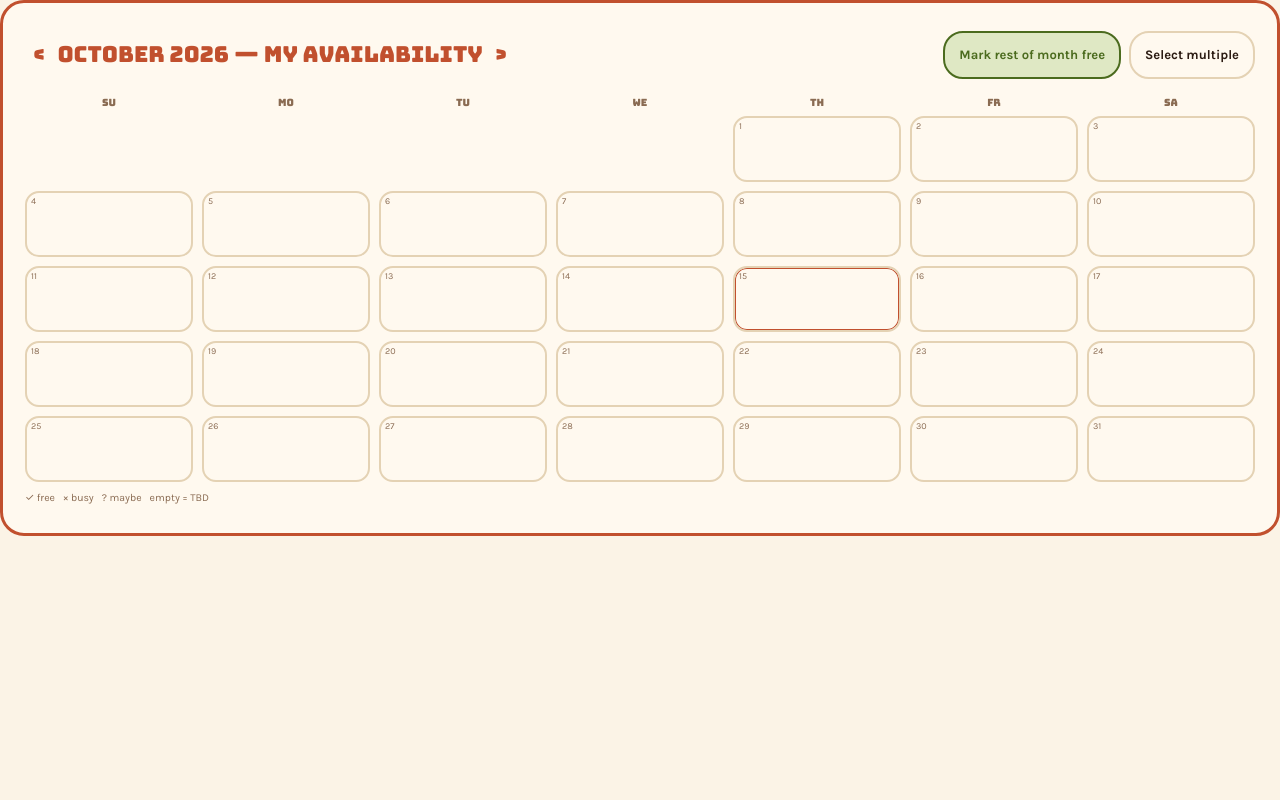
Test: bulk marking › lets a tap deselect
Click the button "Select multiple" at (1192, 55), box [1129,31,1255,78]
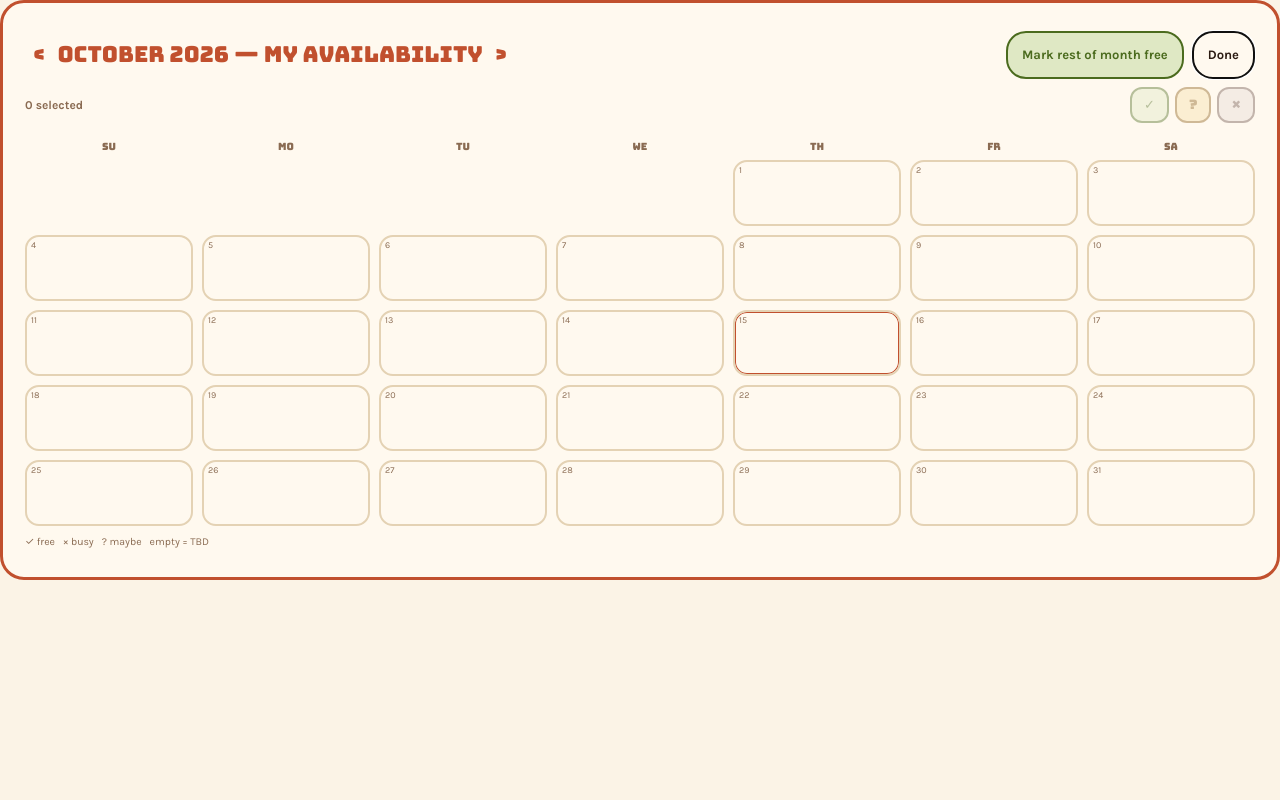
Click the button "16" at (994, 342), box [910,310,1078,376]
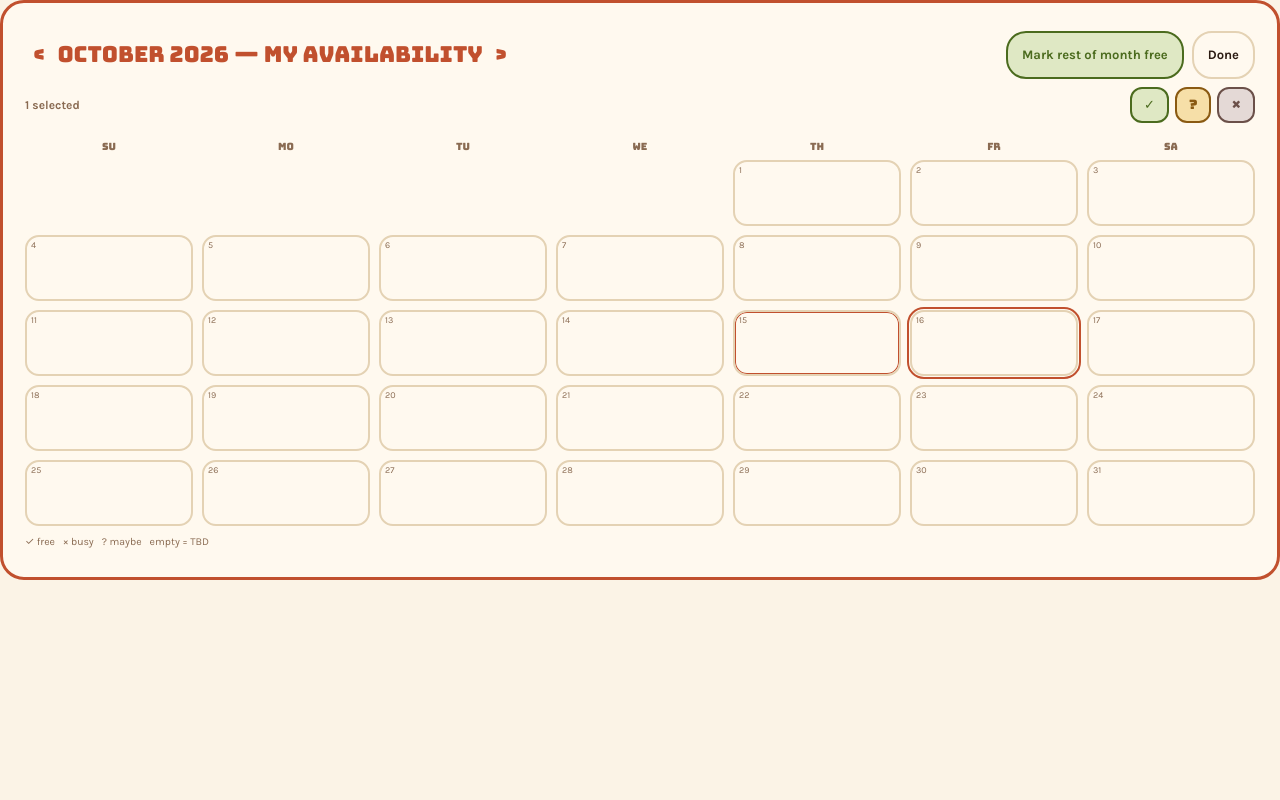
Click the button "16" at (994, 342), box [910,310,1078,376]
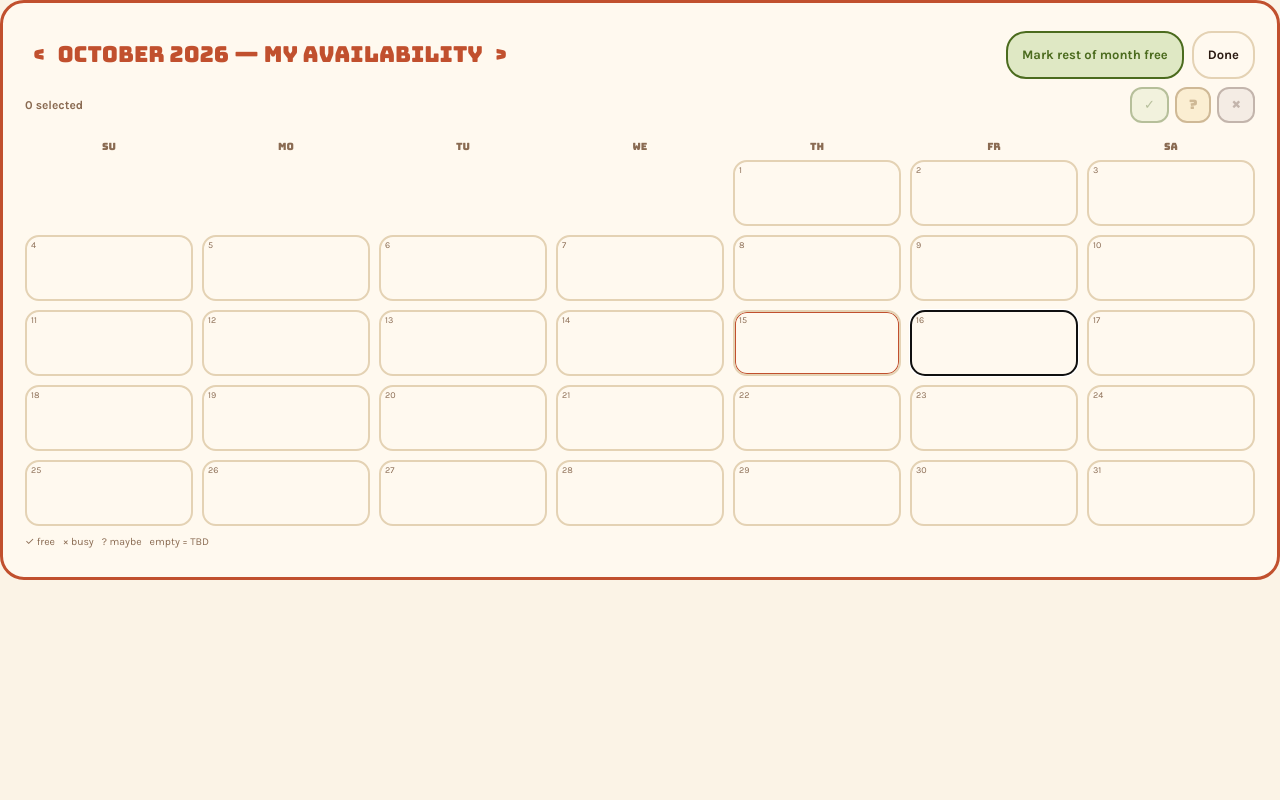
Expected: the text "0 selected" is shown, [25,96,83,114]
